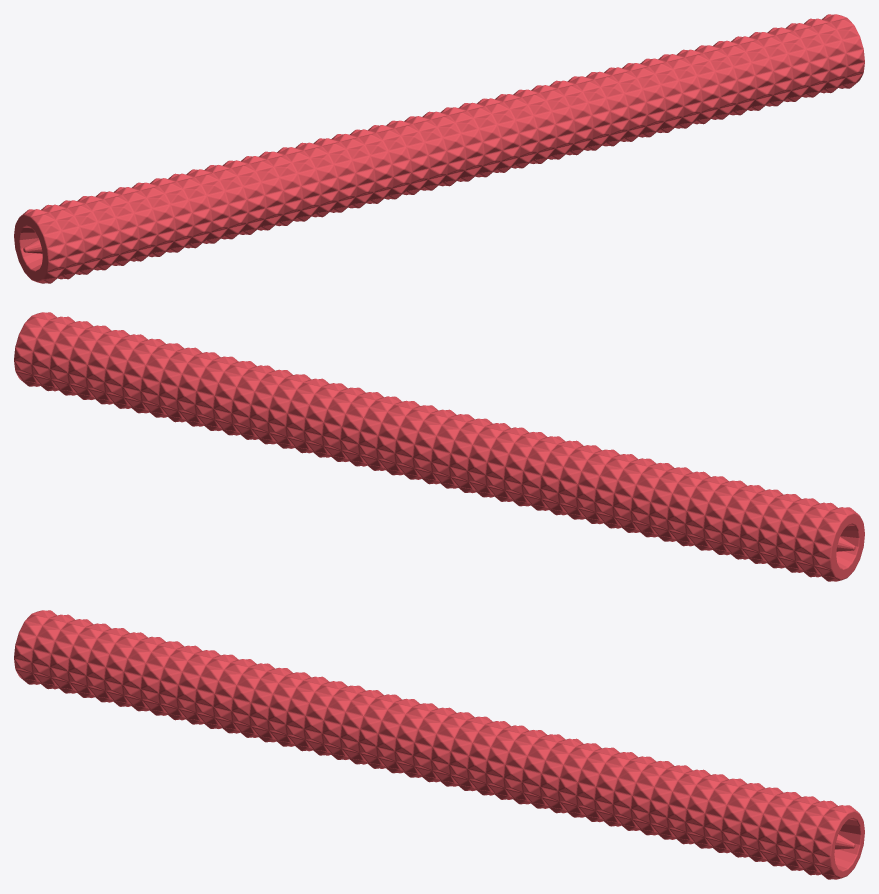
Rendered from Moedor.fbx.
3 renders of one model, top to bottom at view 1: azimuth 30°, elevation 25°; view 2: azimuth 150°, elevation 25°; view 3: azimuth 330°, elevation 25°, orthographic.
Parts seen in each view (by area): view 1: Cylinder.032; view 2: Cylinder.032; view 3: Cylinder.032.
Part boxes in pixels (x1=…): Cylinder.032: x1=14, y1=14, x2=864, y2=283; Cylinder.032: x1=14, y1=312, x2=864, y2=581; Cylinder.032: x1=14, y1=610, x2=864, y2=879.
Bounding box in the file's own units: 6098 × 484 × 484.
